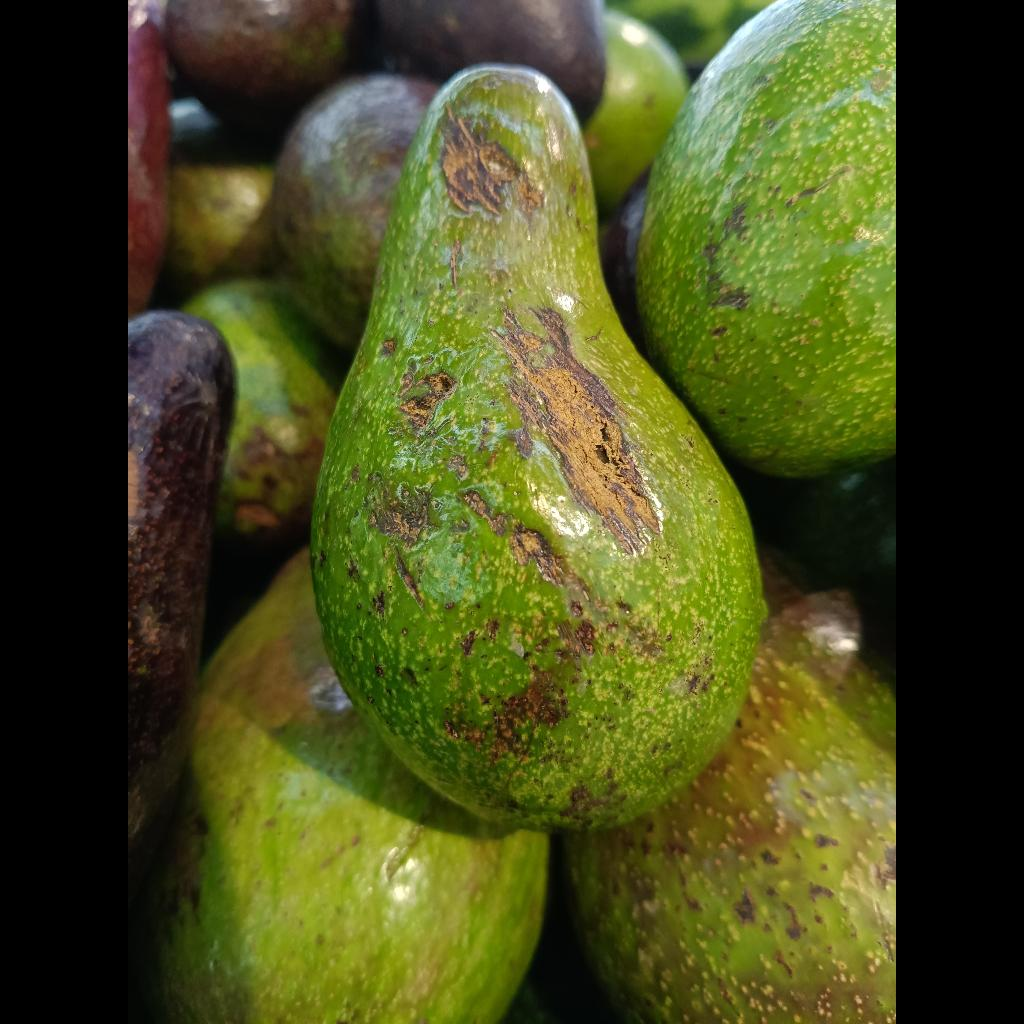scab: (311, 64, 762, 831)
